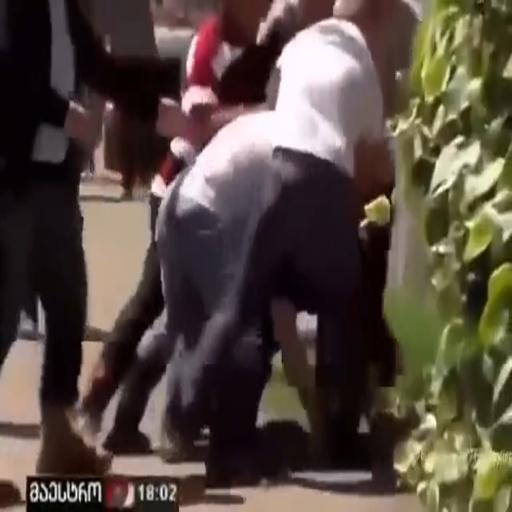violencia: (88, 0, 420, 505)
